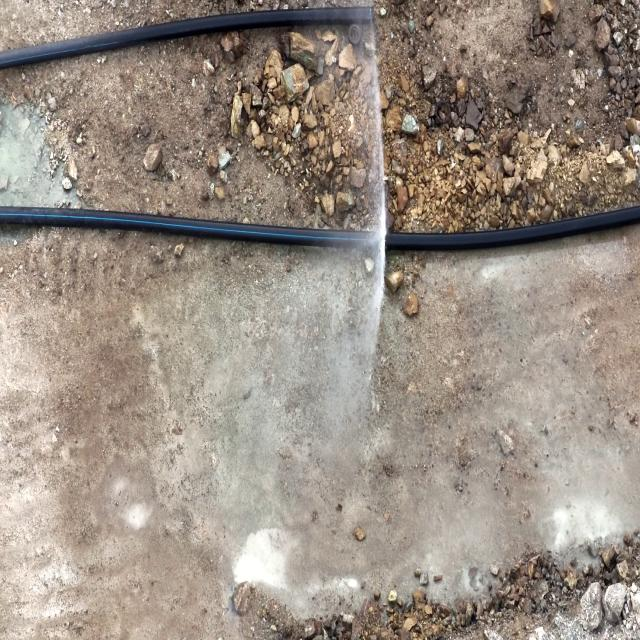leak: (366, 0, 389, 399)
